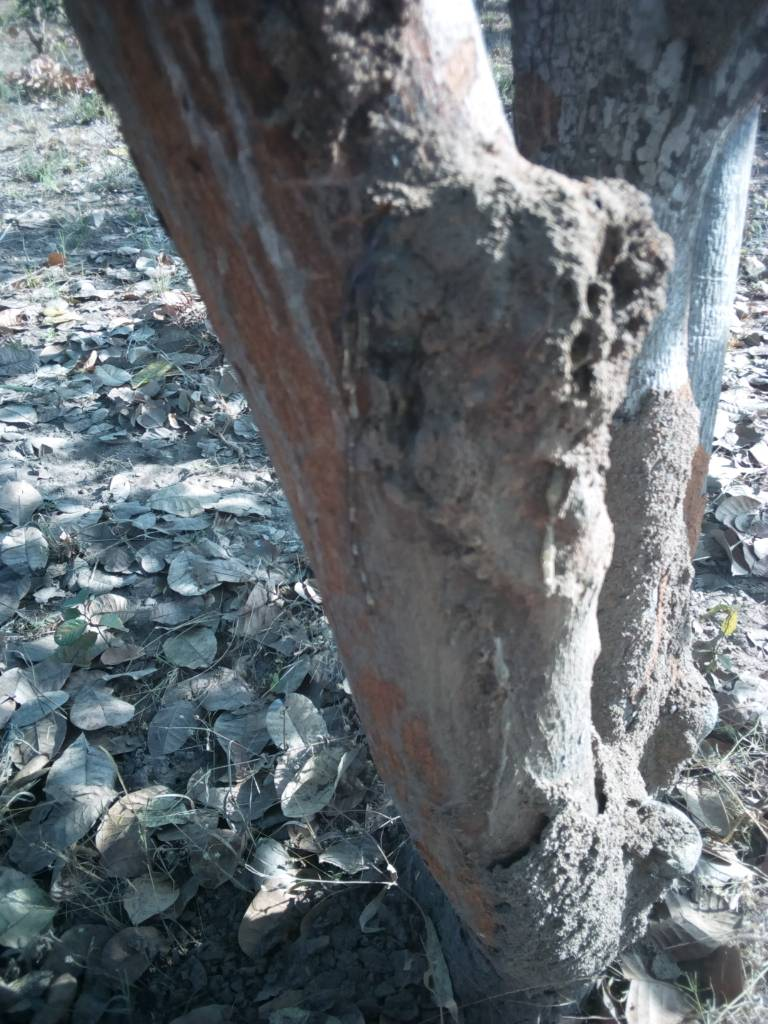Virose: (311, 39, 700, 595)
